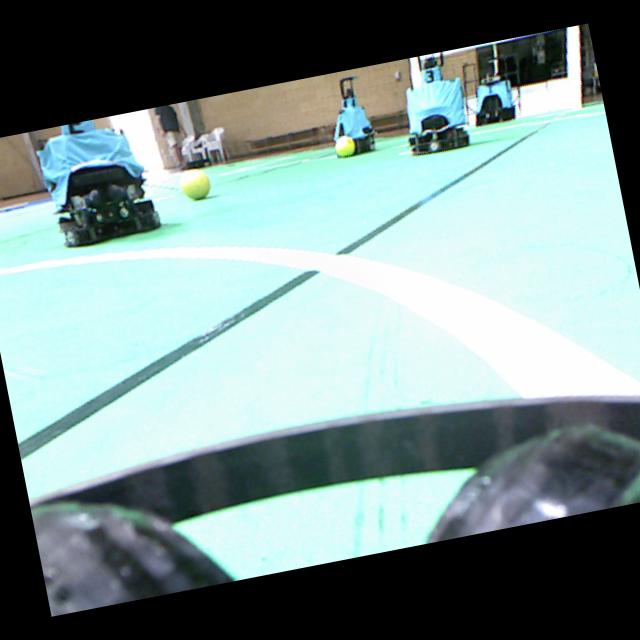ball: (180, 169, 210, 199), (335, 135, 355, 157)
goal: (566, 25, 581, 110)
